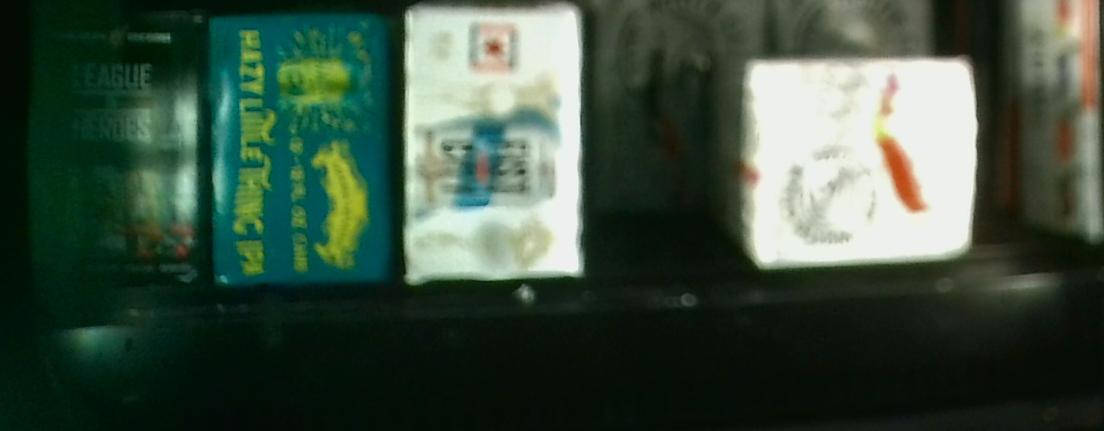bottle: (719, 54, 972, 266), (203, 14, 397, 284), (24, 9, 206, 292), (403, 3, 584, 278)
